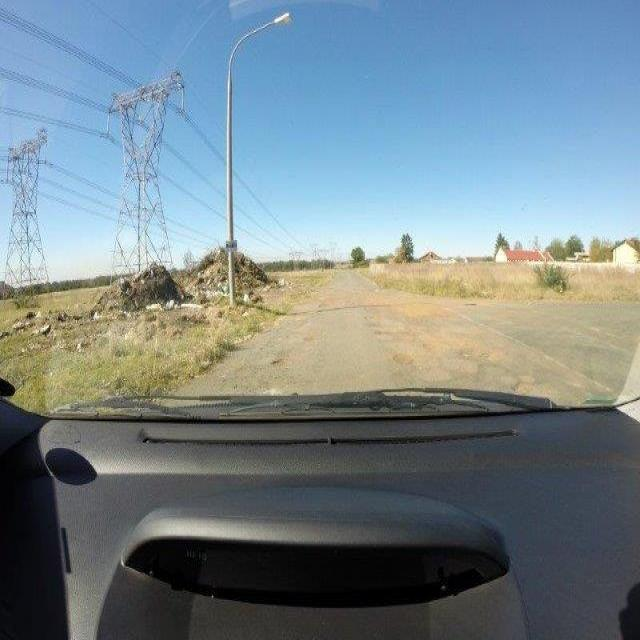lubang: (387, 349, 416, 375), (508, 377, 540, 395), (269, 355, 289, 368), (373, 325, 386, 339)
